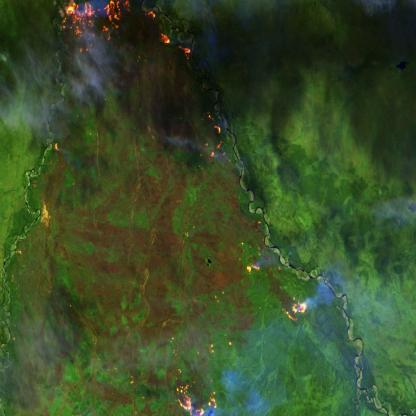fire: (57, 0, 196, 65), (173, 359, 218, 416), (199, 104, 228, 166), (278, 290, 309, 330), (243, 254, 263, 284), (48, 133, 65, 155)
